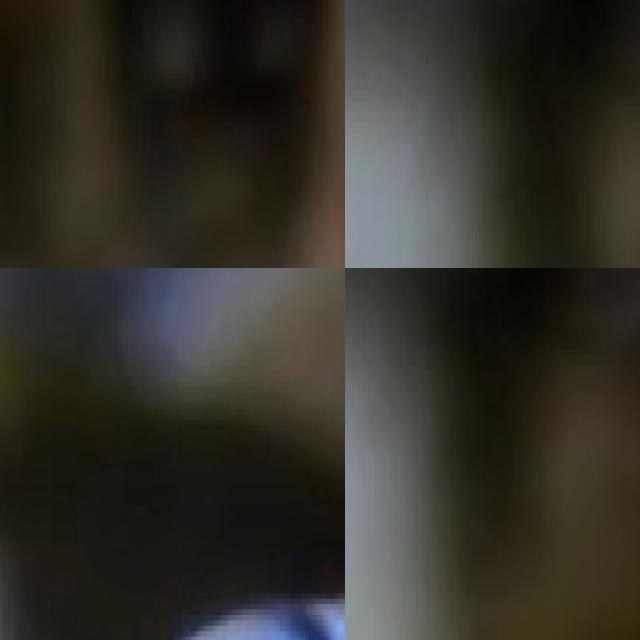fish: (0, 0, 345, 268), (406, 268, 640, 640), (0, 555, 345, 640)
